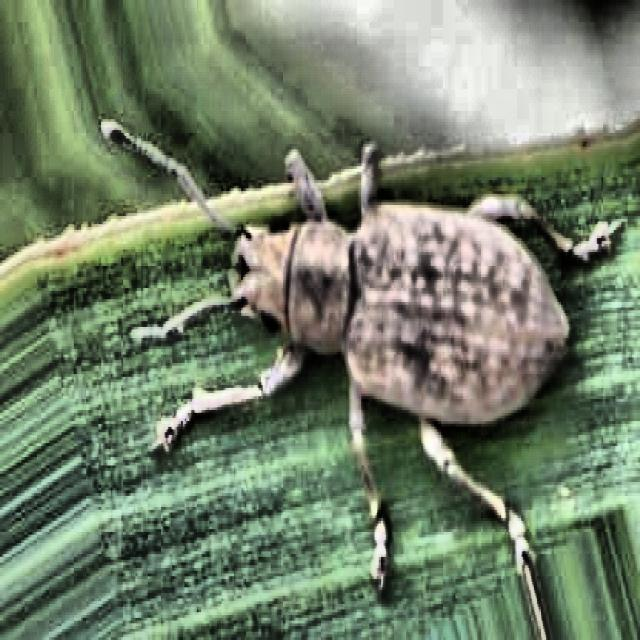Stink bug: (127, 96, 602, 522)
